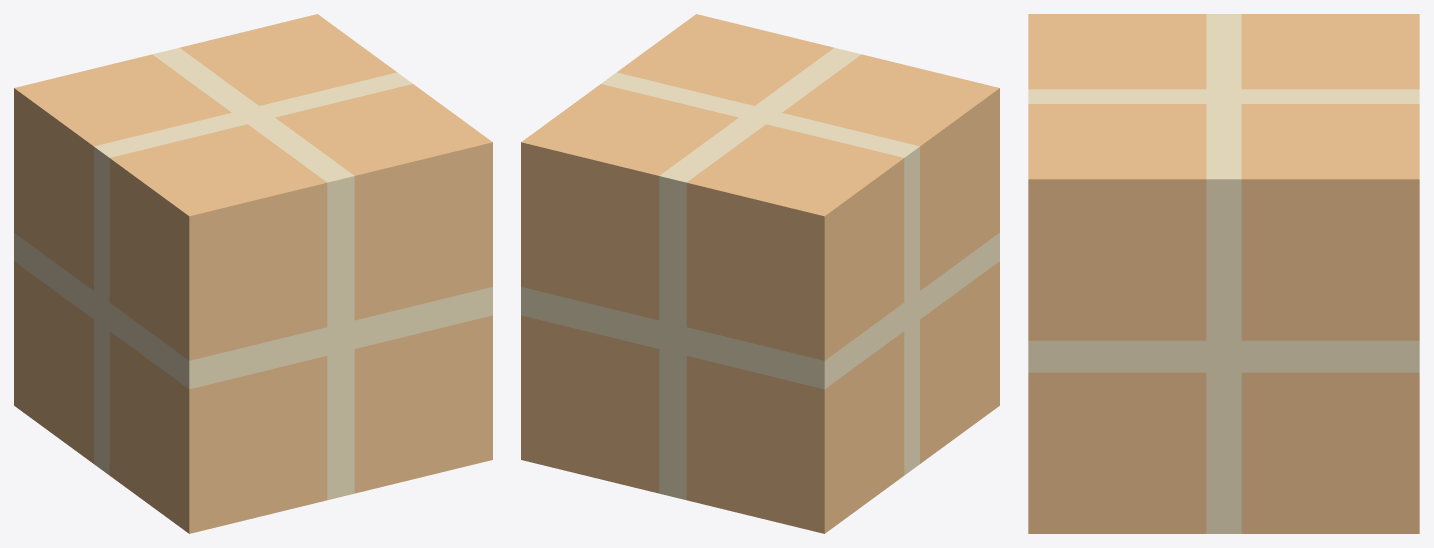
3 renders of one model, left to right at view 1: azimuth 30°, elevation 25°; view 2: azimuth 150°, elevation 25°; view 3: azimuth 270°, elevation 25°, orthographic. The views are drawn at different scales.
Parts seen in each view (by area): view 1: Box_3; view 2: Box_3; view 3: Box_3.
Part boxes in pixels (<box>): Box_3: <box>14,14,492,533</box>; Box_3: <box>521,14,999,533</box>; Box_3: <box>1028,14,1419,533</box>.
Bounding box in the file's own units: 0.8681 × 0.8681 × 0.8681.
Materials: 1 (1 with a texture image).
